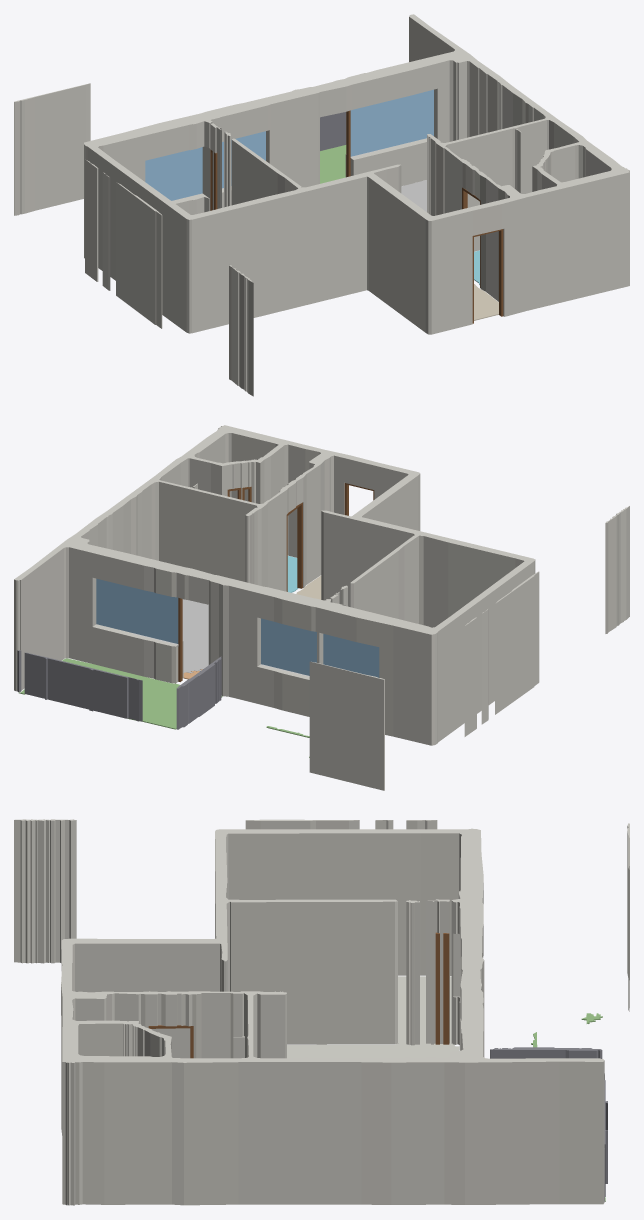
3 renders of one model, top to bottom at view 1: azimuth 30°, elevation 25°; view 2: azimuth 150°, elevation 25°; view 3: azimuth 270°, elevation 25°, orthographic. The views are drawn at different scales.
Visible parts, largest first — view 1: walls, window_9, window_7, railings, floor_2_Outdoor, door_6, floor_10_Entry, window_8; view 2: walls, railings, window_9, window_8, floor_2_Outdoor, floor_5_Kitchen, window_7, door_3; view 3: walls, floor_12_Undefined, railings, door_1, door_2.
Part boxes in pixels (x1=…): walls: x1=14, y1=14, x2=629, y2=396; window_9: x1=350, y1=89, x2=433, y2=156; window_7: x1=145, y1=147, x2=202, y2=200; railings: x1=320, y1=112, x2=346, y2=150; floor_2_Outdoor: x1=320, y1=145, x2=346, y2=183; door_6: x1=472, y1=229, x2=503, y2=323; floor_10_Entry: x1=474, y1=284, x2=498, y2=320; window_8: x1=222, y1=131, x2=265, y2=188; walls: x1=14, y1=425, x2=629, y2=790; railings: x1=17, y1=650, x2=221, y2=729; window_9: x1=96, y1=578, x2=178, y2=643; window_8: x1=261, y1=618, x2=316, y2=675; floor_2_Outdoor: x1=18, y1=658, x2=222, y2=729; floor_5_Kitchen: x1=182, y1=599, x2=208, y2=673; window_7: x1=323, y1=634, x2=379, y2=677; door_3: x1=286, y1=502, x2=302, y2=591; walls: x1=14, y1=819, x2=629, y2=1205; floor_12_Undefined: x1=287, y1=976, x2=459, y2=1058; railings: x1=490, y1=1047, x2=607, y2=1200; door_1: x1=443, y1=933, x2=449, y2=1044; door_2: x1=435, y1=932, x2=439, y2=1044.
Bounding box in the file's own units: 9.9 × 2.72 × 10.58.
